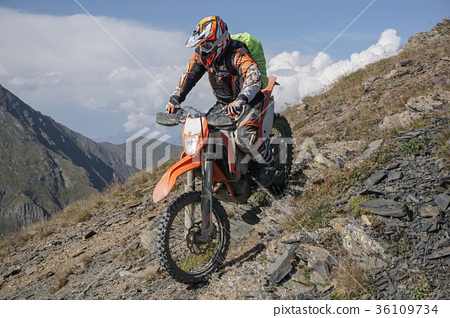helmet: (190, 14, 236, 63)
